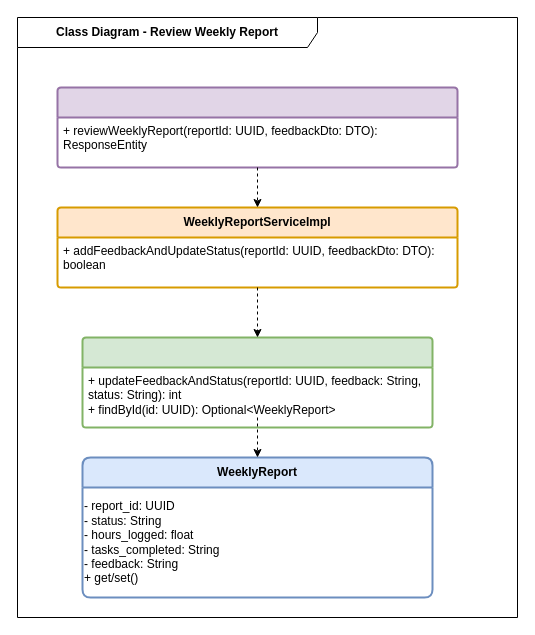
Some shapes in this 535 by 635 pixel diagram are drawn without their labels. Each missing label, with the box of its shape:
<<Interface>> WeeklyReportRepository: (81, 336, 433, 428)
WeeklyReportController: (56, 86, 458, 168)
